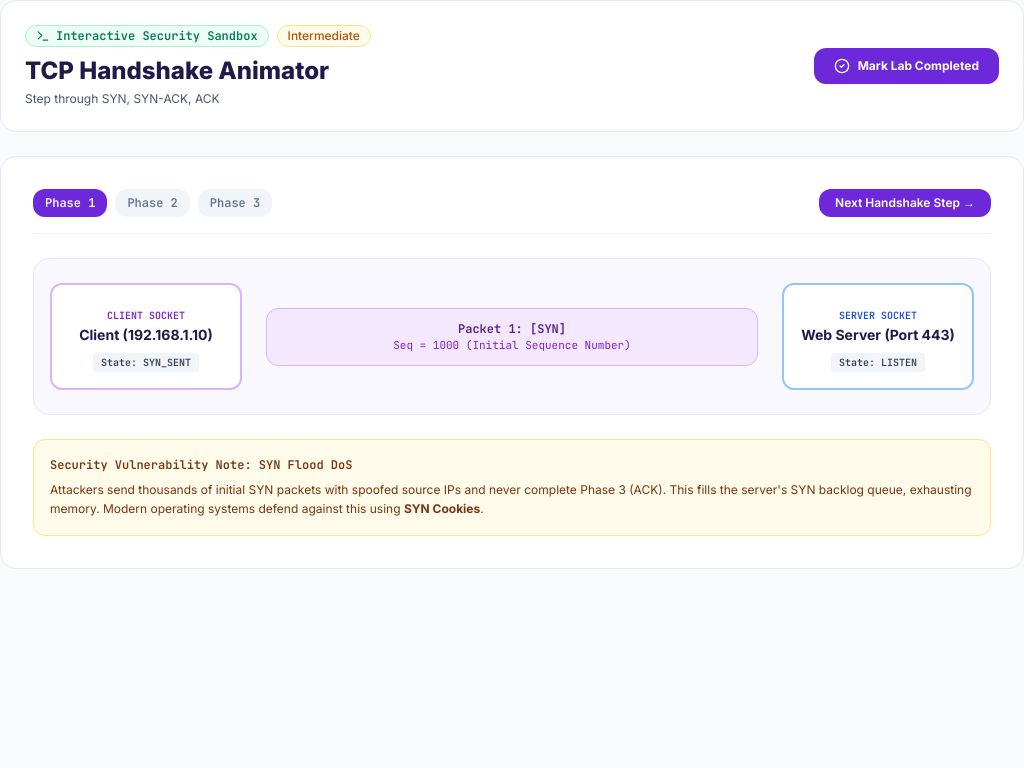
Test: CyberShield Visual Learning Hub Components › SimulationPanel › renders TCP 3-Way Handshake Animator and steps through connection sequence
Check: the heading "TCP Handshake Animator" is shown, box [25,55,371,87]
Check: the text "Packet 1: [SYN]" is shown, box [458,320,566,336]
Click the button "Next Handshake Step →": [905, 203] box [819,189,991,217]
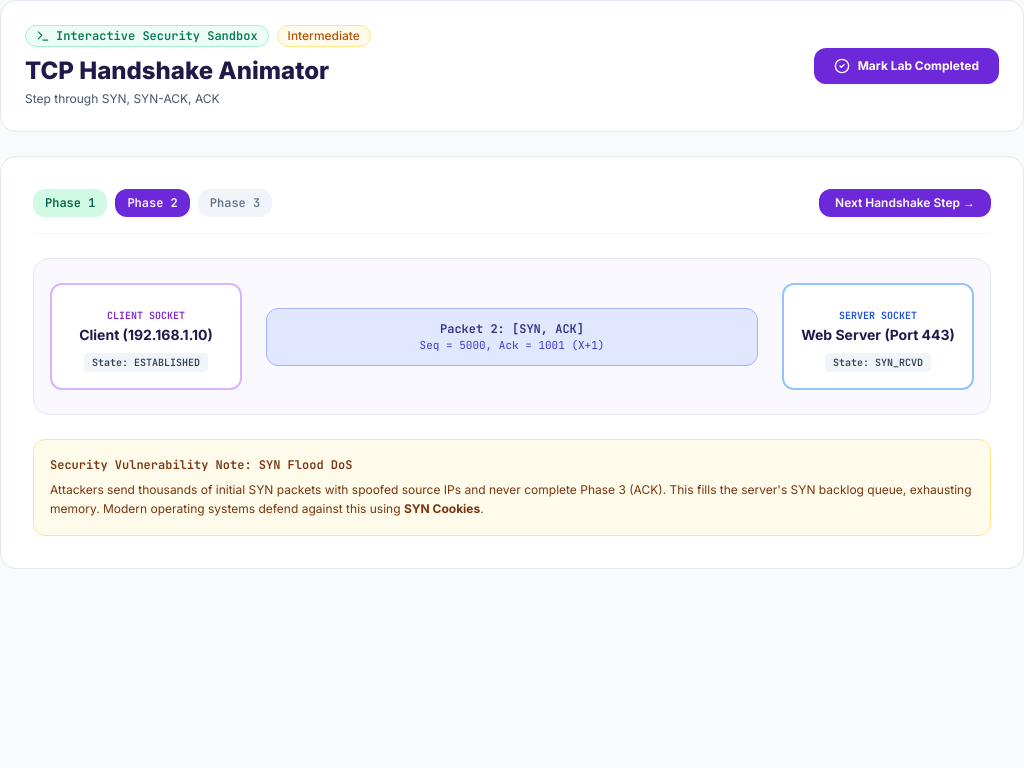
Check: the text "Packet 2: [SYN, ACK]" is shown, box [440,320,584,336]
